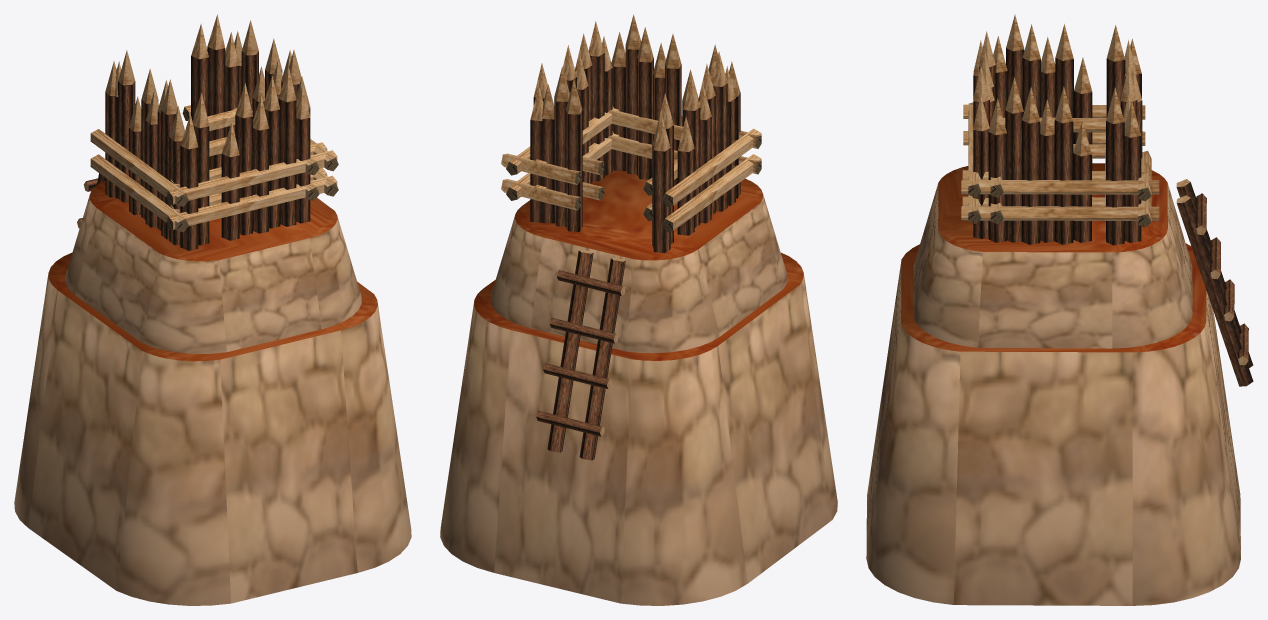
File: wood_defense_tower.dae
3 views of the same model, side by side, from view 1: azimuth 30°, elevation 25°; view 2: azimuth 150°, elevation 25°; view 3: azimuth 270°, elevation 25° (orthographic). The views are drawn at different scales.
Visible parts, largest first — view 1: tower_b; view 2: tower_b; view 3: tower_b.
Boxes of the visible parts, x1=… form: tower_b: x1=14, y1=14, x2=411, y2=605; tower_b: x1=440, y1=14, x2=837, y2=605; tower_b: x1=866, y1=14, x2=1253, y2=605.
Size of the model in its own units: 10.48 by 11.54 by 16.01.
Materials: 1 (1 with a texture image).
